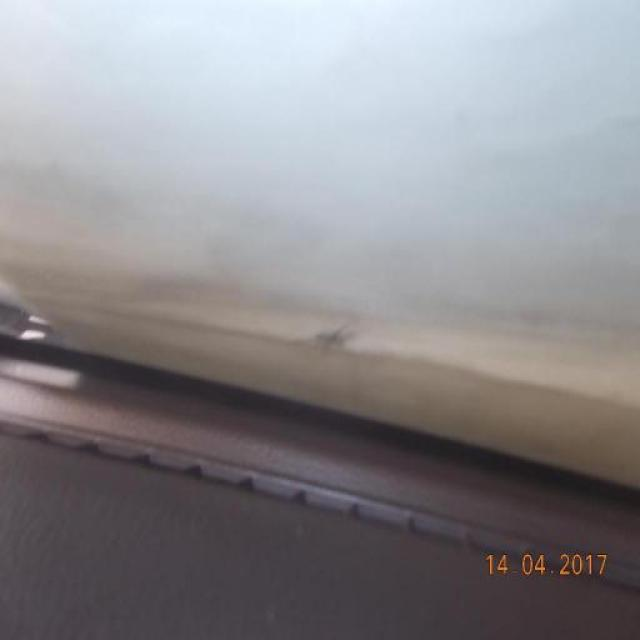dent: (297, 313, 372, 369)
